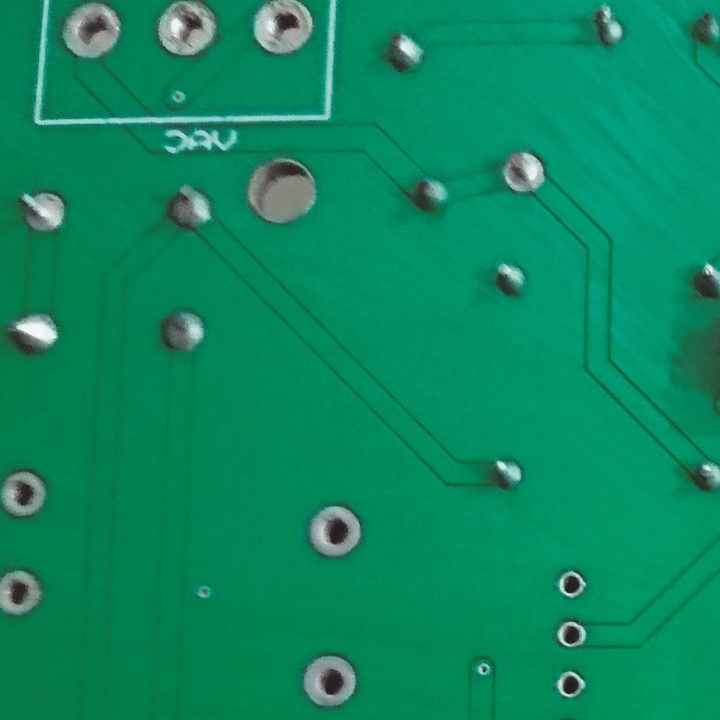F: (56, 2, 124, 61), (254, 1, 316, 60), (156, 1, 219, 58), (303, 650, 361, 711), (304, 502, 367, 558), (20, 186, 73, 238), (1, 466, 50, 522), (1, 561, 45, 619), (503, 151, 549, 196), (555, 669, 591, 703), (553, 618, 590, 651), (554, 567, 587, 600)
